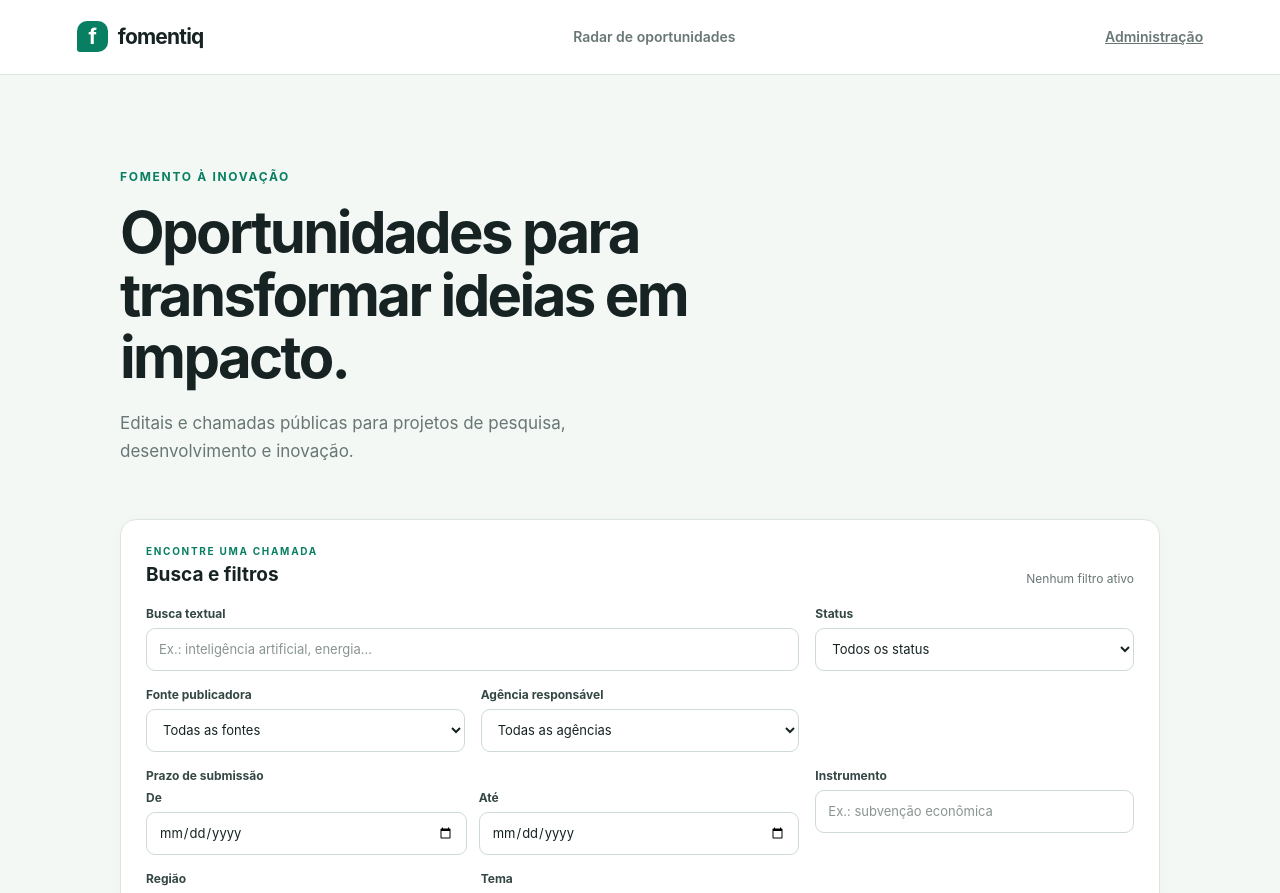
opportunity catalog › applies publisher and responsible-agency filters together
The image size is (1280, 893).
Select "CNPq" in the dropdown labelled "Fonte publicadora" at (305, 730), box [146, 709, 465, 752]
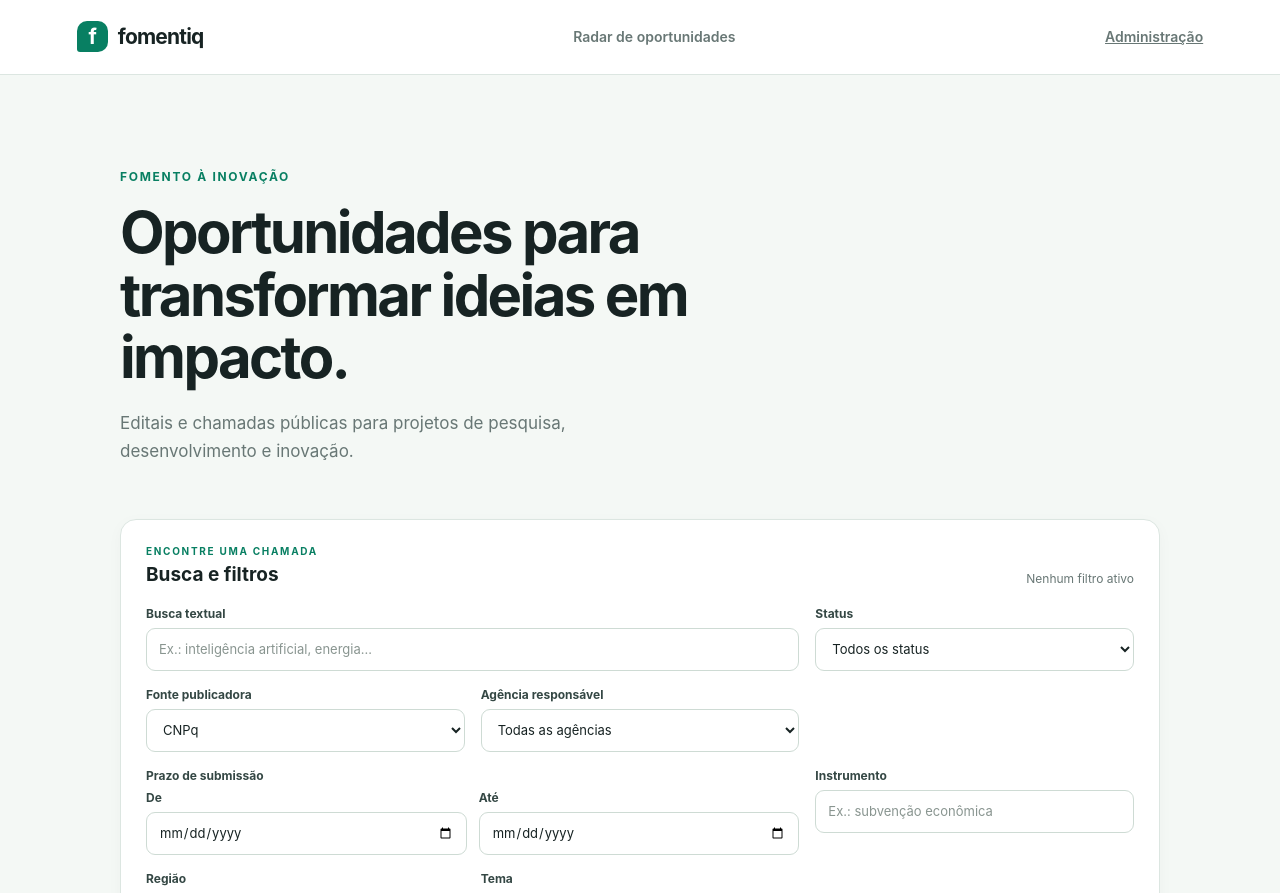
Select "CAPES" in the dropdown labelled "Agência responsável" at (640, 730), box [481, 709, 799, 752]
(page scrolled)
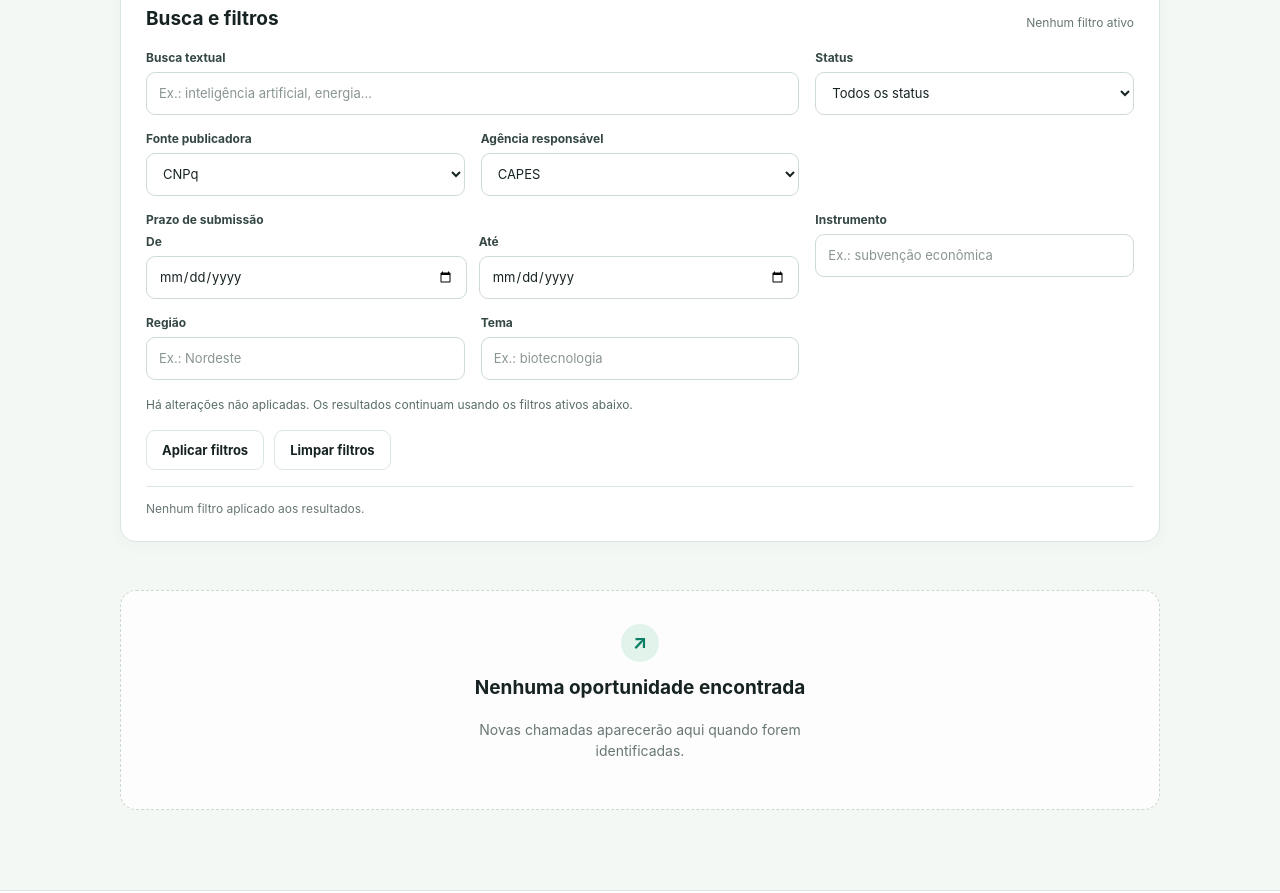
Click the button "Aplicar filtros" at (205, 450), box [146, 430, 264, 470]
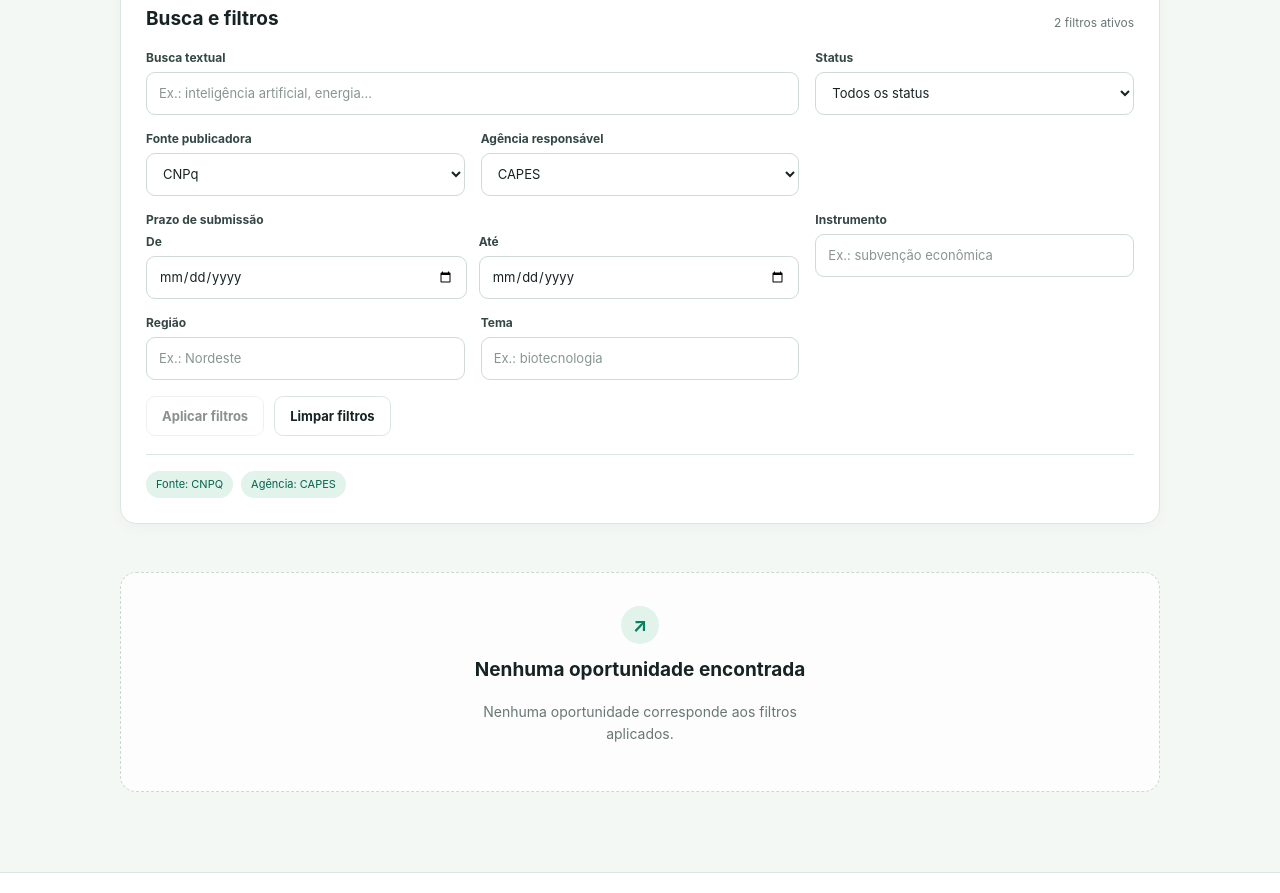
Expected: the list item "Fonte: CNPQ" is shown, [146, 471, 233, 498]
Expected: the list item "Agência: CAPES" is shown, [241, 471, 346, 498]
